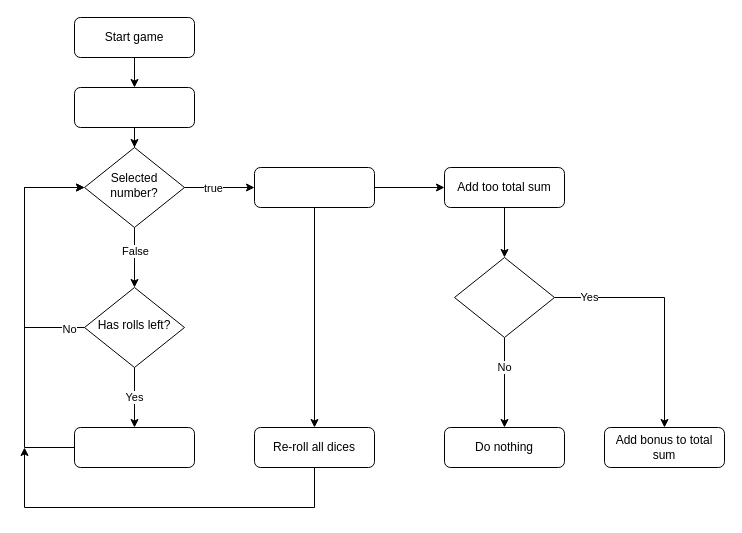
Some shapes in this 742 by 533 pixel diagram are drawn without their labels. The centre of each missing label's shape, as x and y in pixels:
Add dices matching to sum of number: the point at 314,187
Enough for bonus?: the point at 504,297
re-roll selected dices: the point at 134,447
Roll first throw: the point at 134,107
